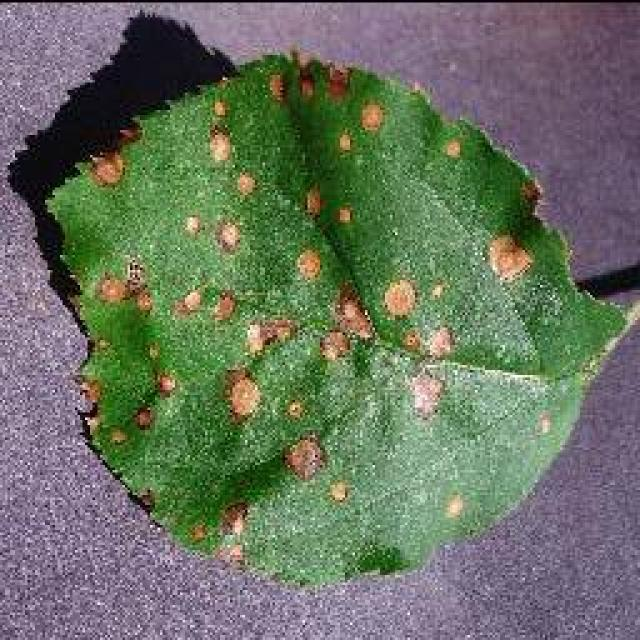apple healthy: (8, 10, 638, 590)
